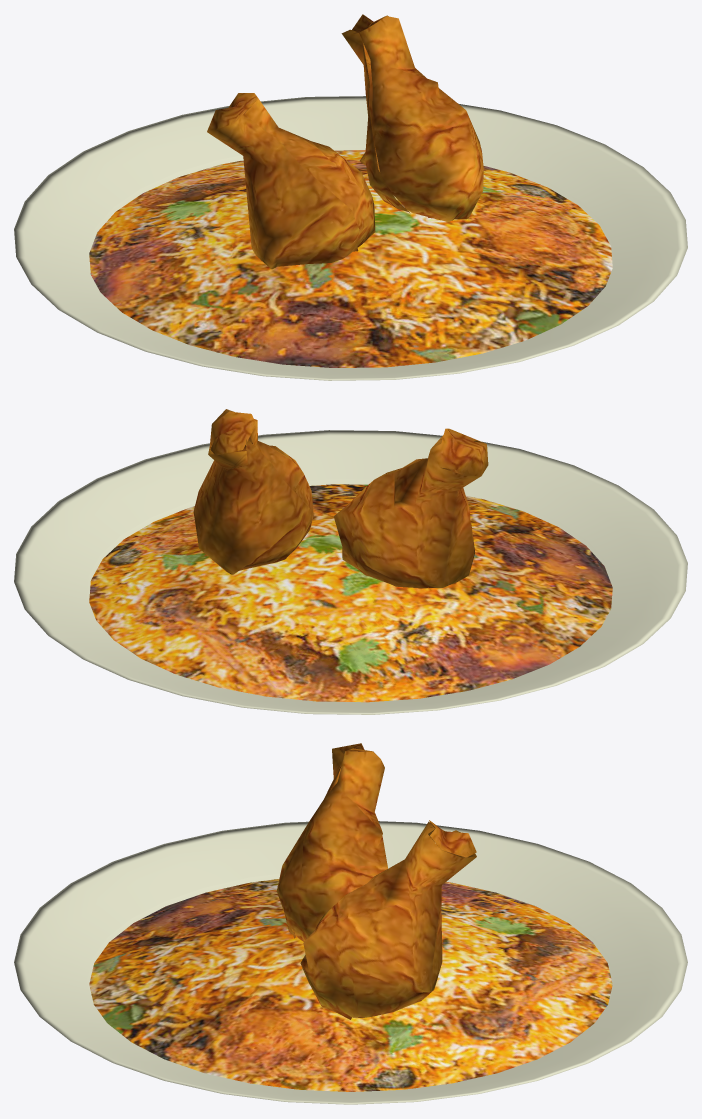
File: biryaniPlate2-transformed.glb
3 views of the same model, one above another, from view 1: azimuth 30°, elevation 25°; view 2: azimuth 150°, elevation 25°; view 3: azimuth 270°, elevation 25° (orthographic).
Parts seen in each view (by area): view 1: Biryani, model_0.004; view 2: Biryani, model_0.004; view 3: Biryani, model_0.004.
Part boxes in pixels (x1,y1,x2,y2): Biryani: [14, 96, 687, 380]; model_0.004: [207, 14, 483, 269]; Biryani: [14, 430, 687, 714]; model_0.004: [193, 409, 488, 588]; Biryani: [14, 821, 687, 1104]; model_0.004: [276, 743, 476, 1019].
Bounding box in the file's own units: 0.64 × 0.2155 × 0.64.
Materials: 3 (2 with a texture image).
